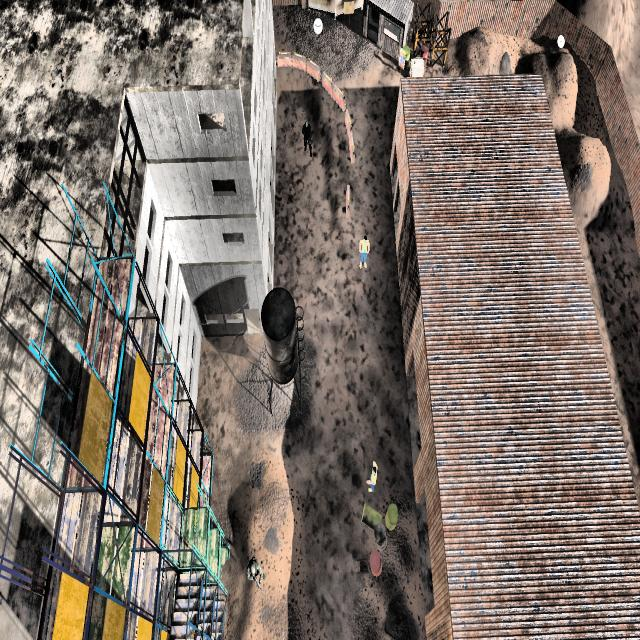bad: (242, 542, 266, 599), (295, 113, 316, 163)
good: (362, 451, 384, 506), (356, 226, 372, 276)
